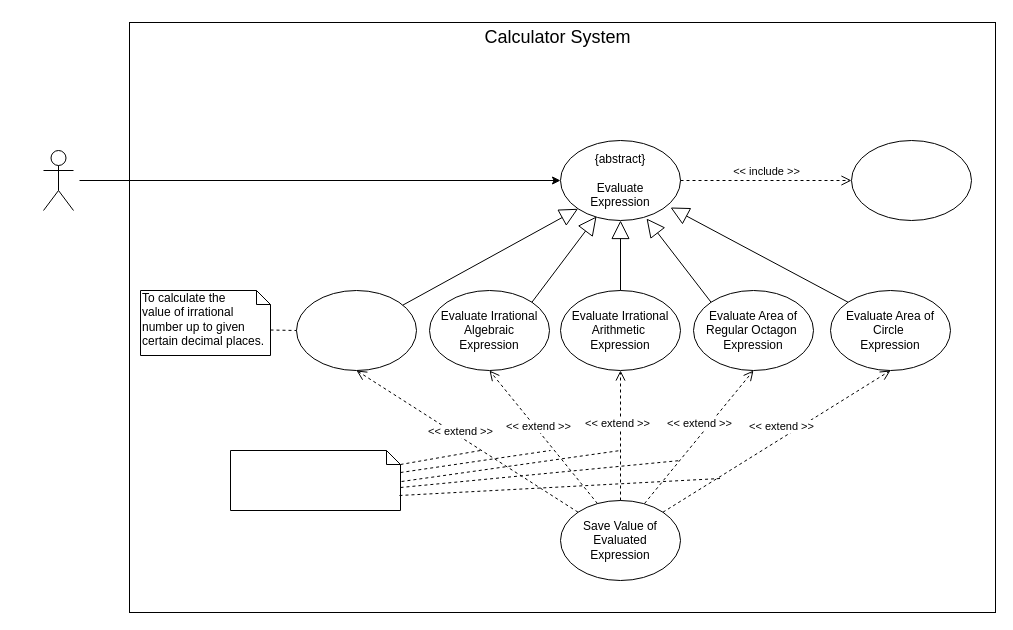
Some shapes in this 1013 by 630 pixel diagram are drawn without their labels. Each missing label, with the box of its shape:
Calculator User: (42, 150, 74, 210)
Condition: {User choose to save value of evaluated expression}: (230, 450, 400, 510)
Display Answer: (850, 140, 972, 220)
Evaluate Irrational Number Value: (296, 290, 416, 370)
